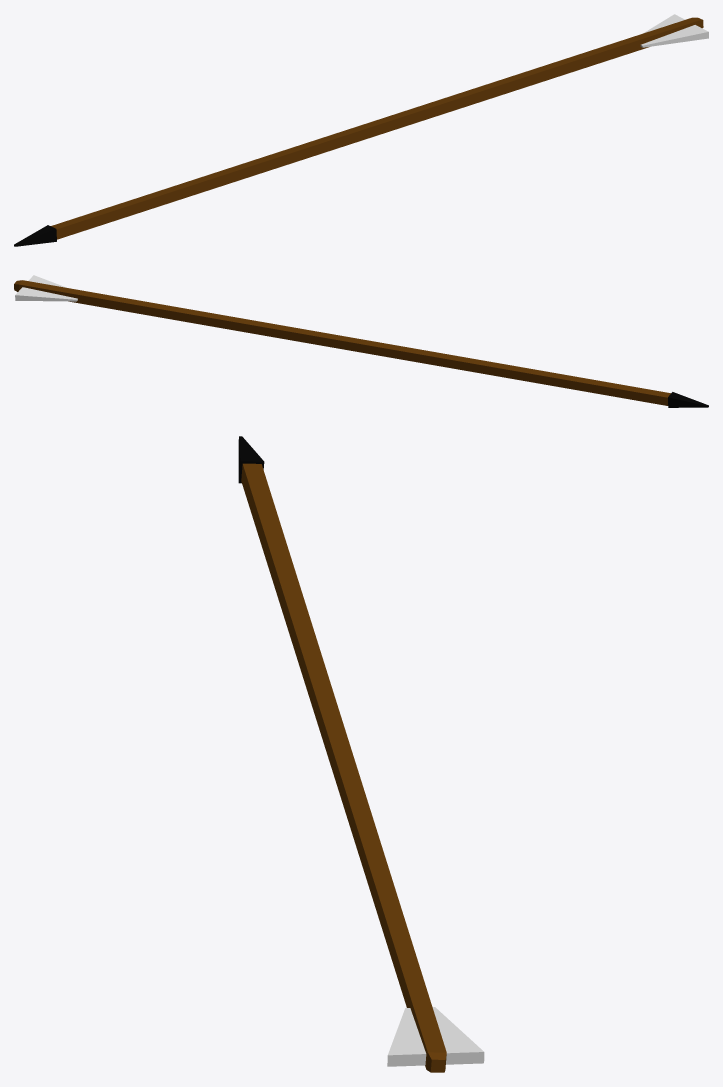
Rendered from ArrowHat.fbx.
3 renders of one model, top to bottom at view 1: azimuth 30°, elevation 25°; view 2: azimuth 150°, elevation 25°; view 3: azimuth 270°, elevation 25°, orthographic. The views are drawn at different scales.
Parts seen in each view (by area): view 1: Cube.003; view 2: Cube.003; view 3: Cube.003.
Boxes of the visible parts, box(x1,y1,x2,y2) form: Cube.003: box(14, 14, 708, 246); Cube.003: box(14, 275, 708, 407); Cube.003: box(238, 436, 484, 1072).
Size of the model in its own units: 161 by 2.82 by 26.65.
